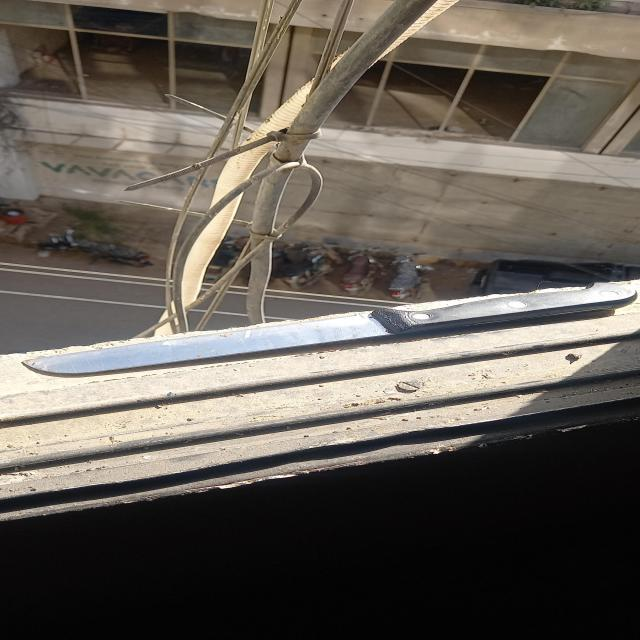faca: (21, 281, 636, 375)
